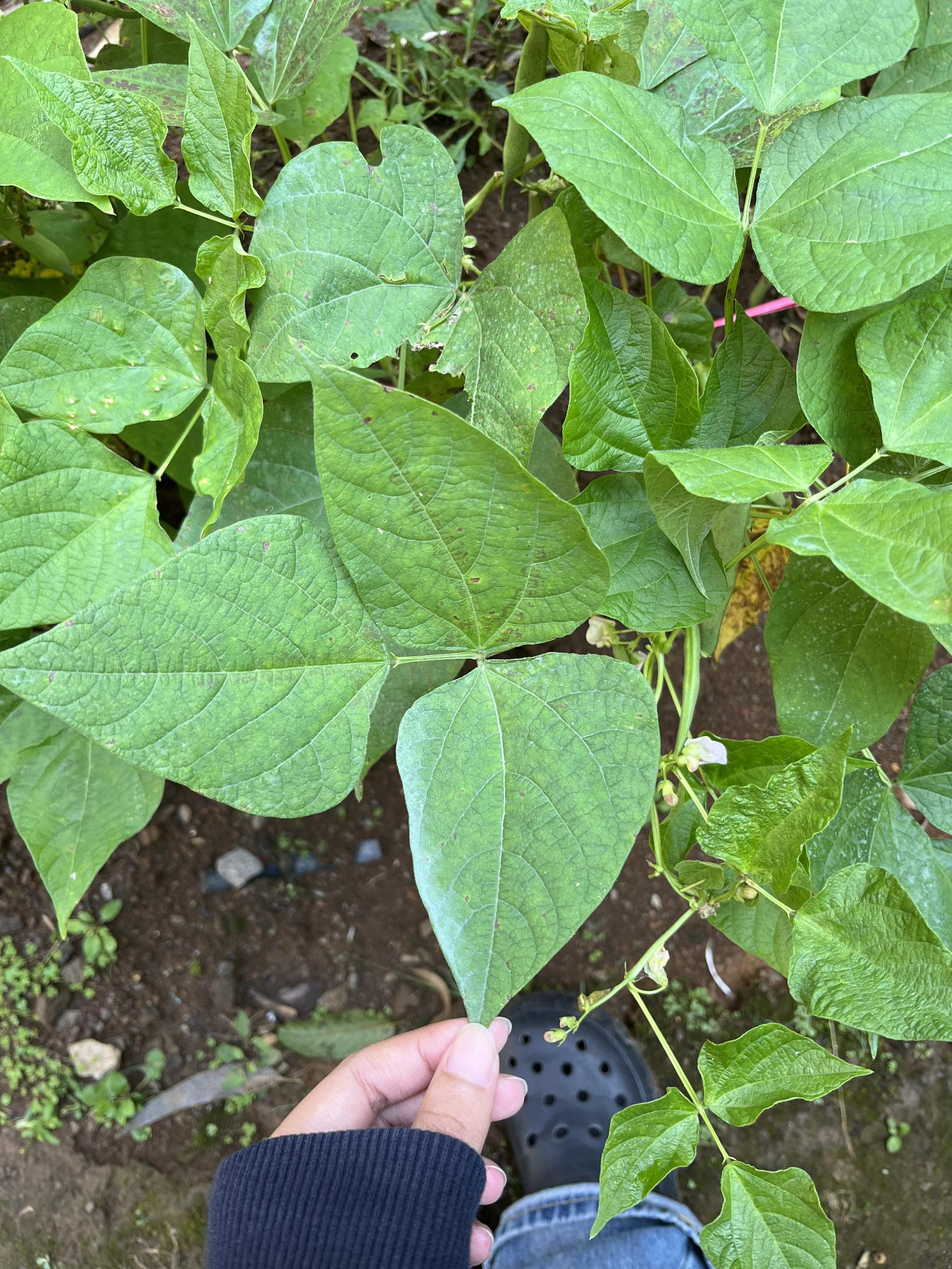embun tepung: (396, 703, 488, 1026)
